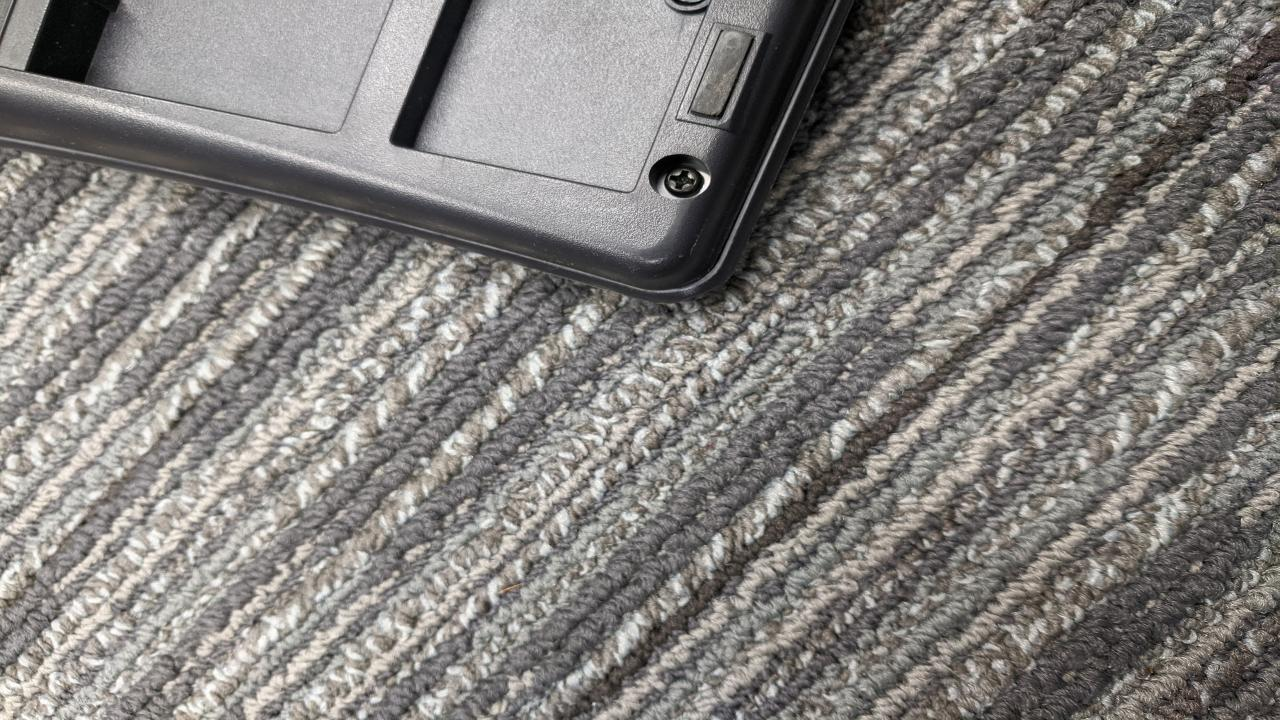CRS: (663, 165, 705, 194)
